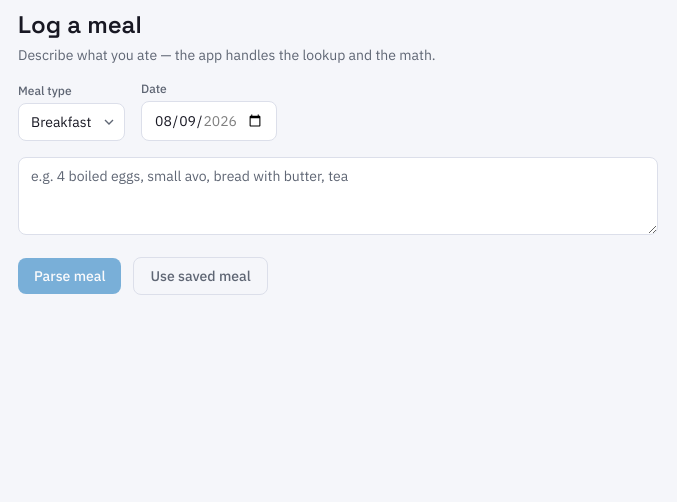
Confirm & log disabled state › is disabled while any unresolved clarification remains
Type "150g oatmeal, 50g milk" into the text box at (338, 196), box [18,157,658,235]
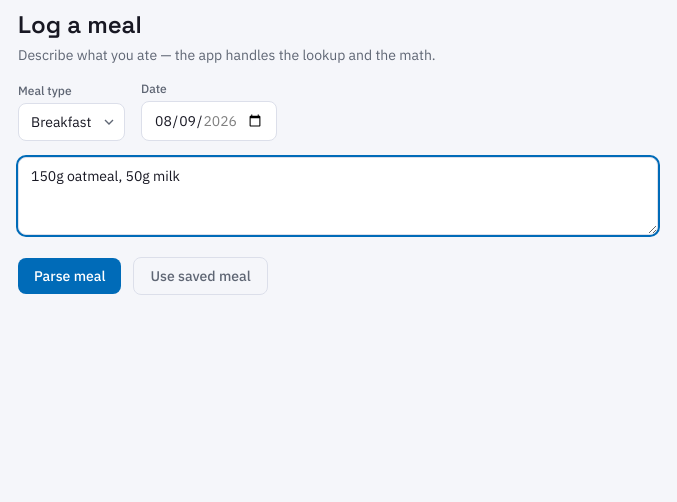
Click the button "Parse meal" at (70, 276), box [18,258,122,294]
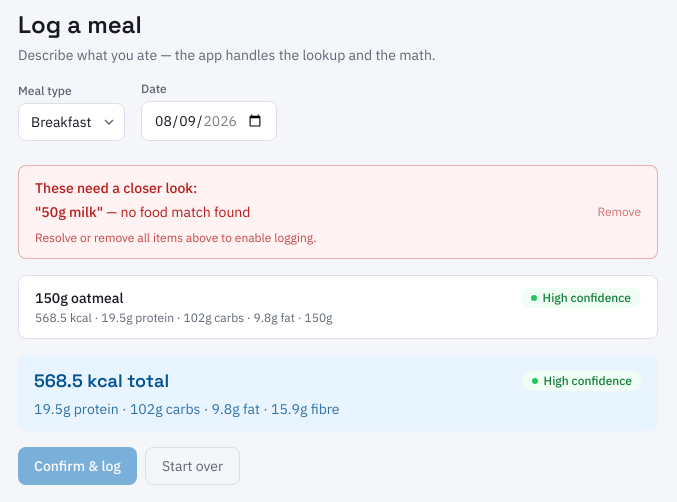
Expected: the button "Confirm & log" is disabled, [18,447,137,485]
